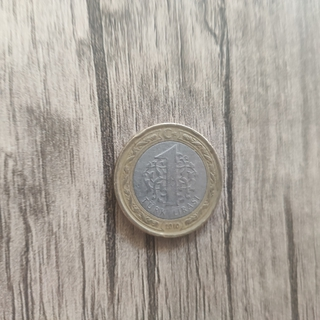1TL: (110, 120, 224, 240)
